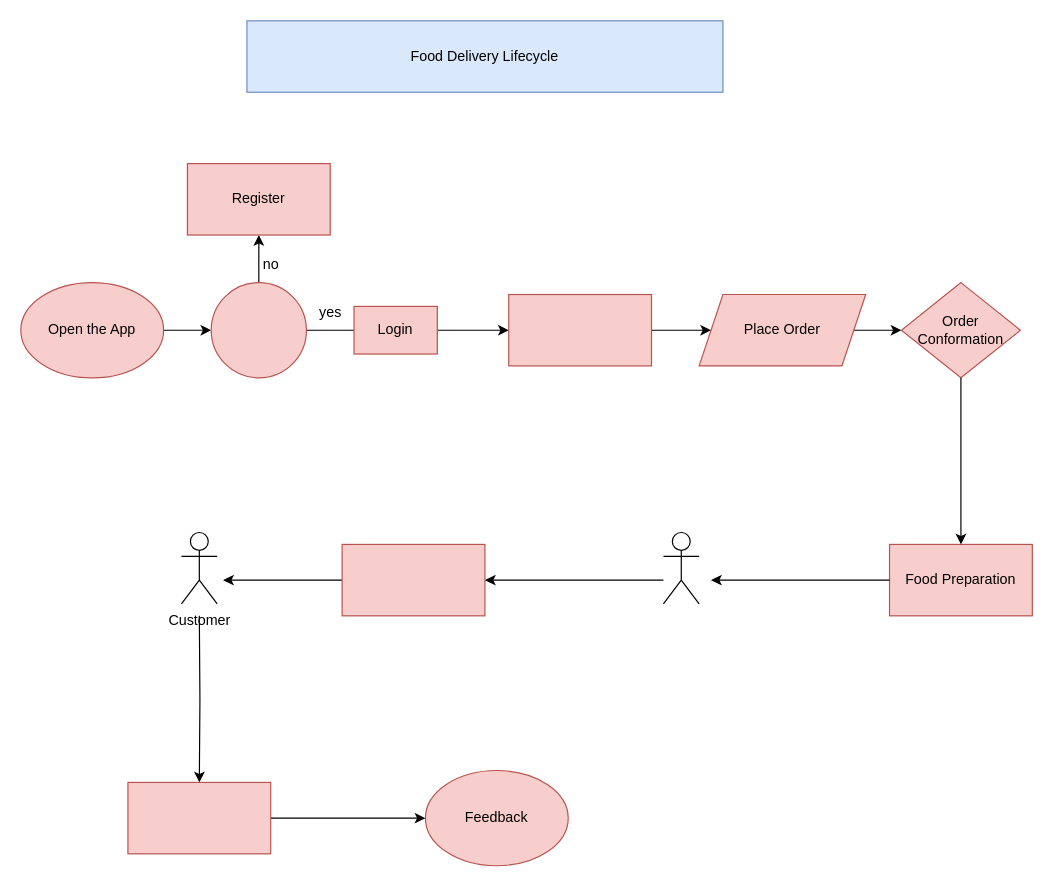
The diagram is 1053 pixels wide and 887 high, and some of its shapes have lost their labels. The centre of each missing label's shape, as x and y in pixels:
Browse & Select Food: (580,329)
Delivery Partner: (680,567)
New User: (258,329)
Payment: (199,817)
Pickup From Restaurant: (413,579)
